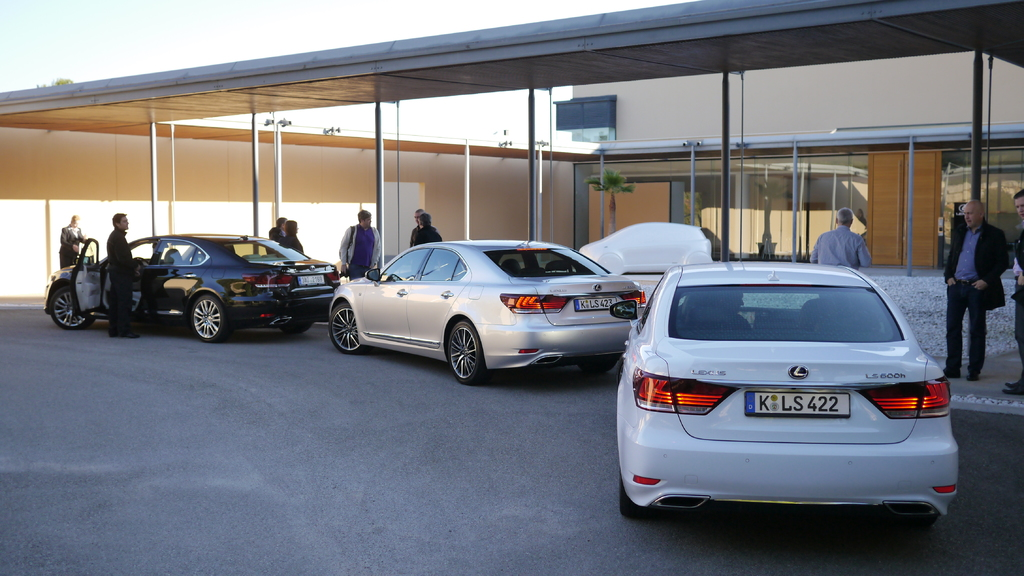Car: (618, 255, 967, 527), (325, 232, 652, 386), (47, 229, 343, 341), (578, 222, 717, 280)
